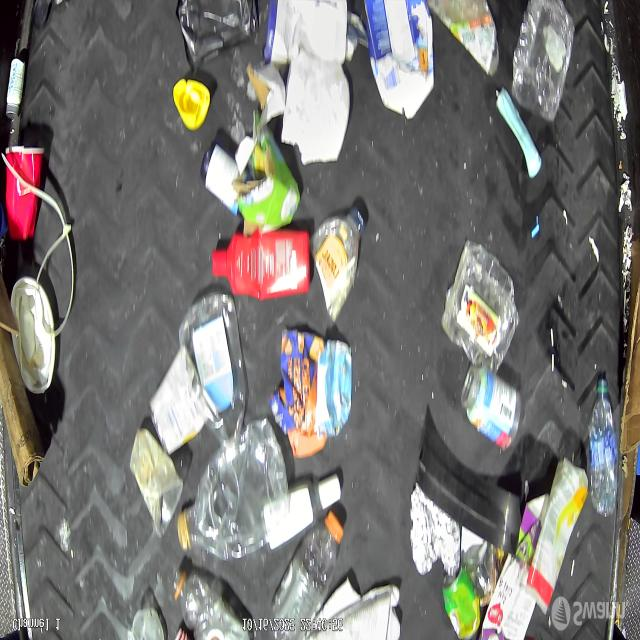can: (452, 534, 504, 603), (442, 563, 481, 640)
non_white_jug: (481, 494, 550, 640), (365, 1, 435, 120), (211, 229, 310, 297)
plastic_bottle: (179, 417, 290, 560), (179, 292, 246, 464), (273, 514, 344, 626), (510, 0, 574, 124), (309, 203, 366, 324), (174, 568, 248, 640), (588, 375, 620, 516)
